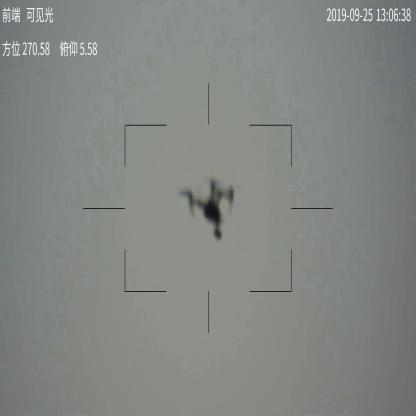uav: (183, 179, 239, 245)
